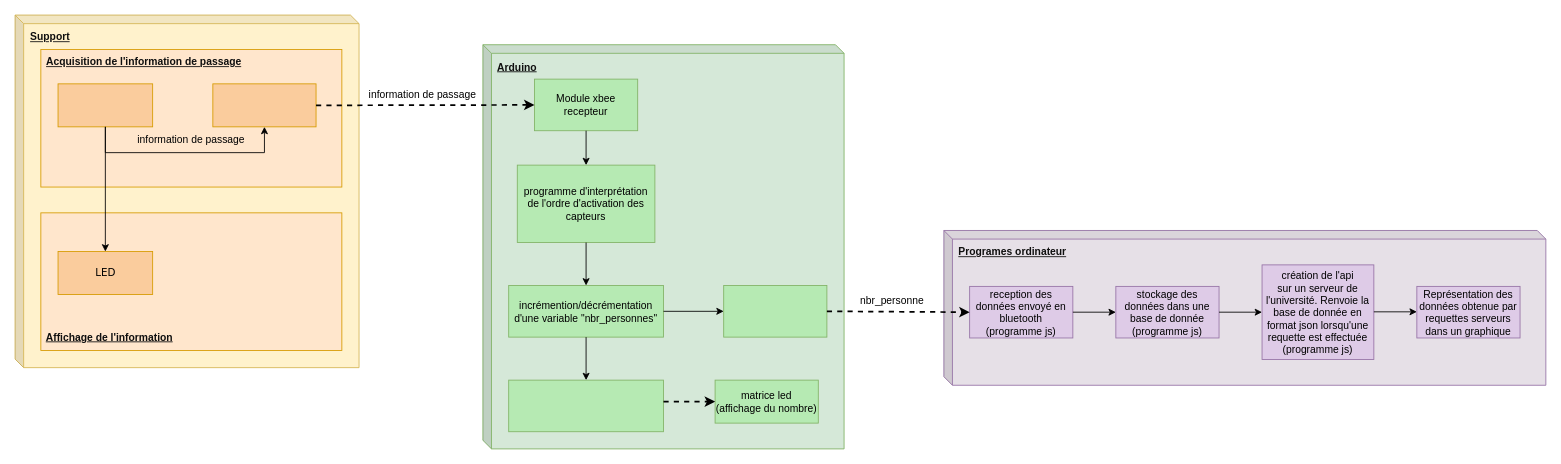
Image size: 1561x464. Some labels were removed from this diagram. Here are the shapes that lost their labels. From the top down, the centre of each, then its label:
the point at 105,105: Capteurs infrarouge
the point at 264,105: Module xbee emetteur
the point at 775,311: envoie en bluetooth la valeur de "nbr_personnes"
the point at 585,405: Traduction de la valeur de "nbr_personne" pour affichage sur la matrice de led
